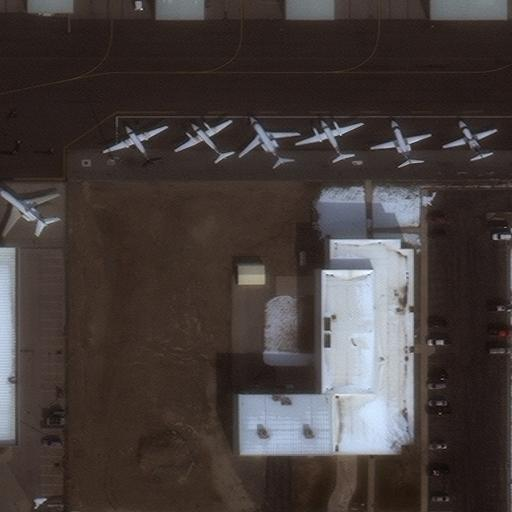Medium Civil Transport: (238, 115, 298, 164), (0, 186, 57, 235), (294, 119, 362, 159), (102, 125, 165, 162), (172, 119, 228, 158)
Small Civil Transport: (371, 119, 430, 163), (442, 119, 496, 159)
